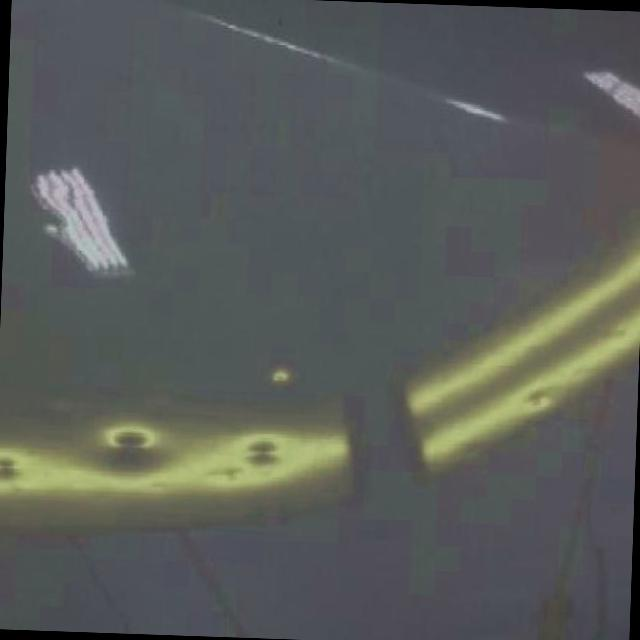dent: (102, 420, 162, 460), (244, 432, 287, 473), (0, 449, 24, 489), (206, 466, 244, 486), (521, 390, 551, 411), (268, 364, 292, 387)
